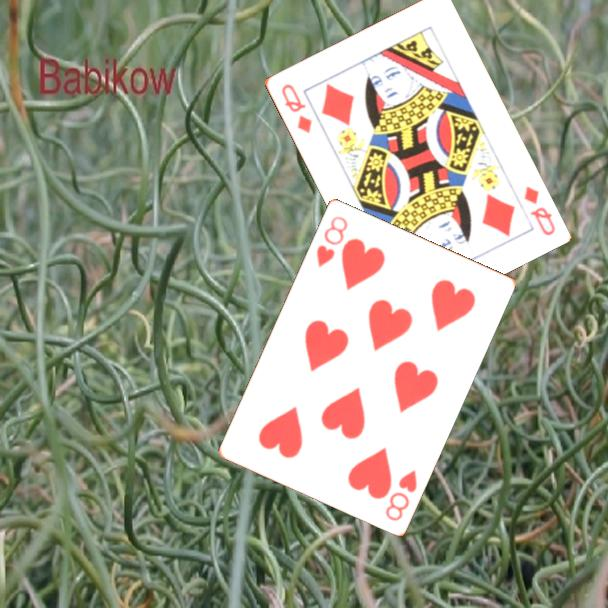d12: (520, 182, 558, 238), (277, 80, 314, 136)
h08: (313, 212, 351, 270), (382, 466, 420, 524)
